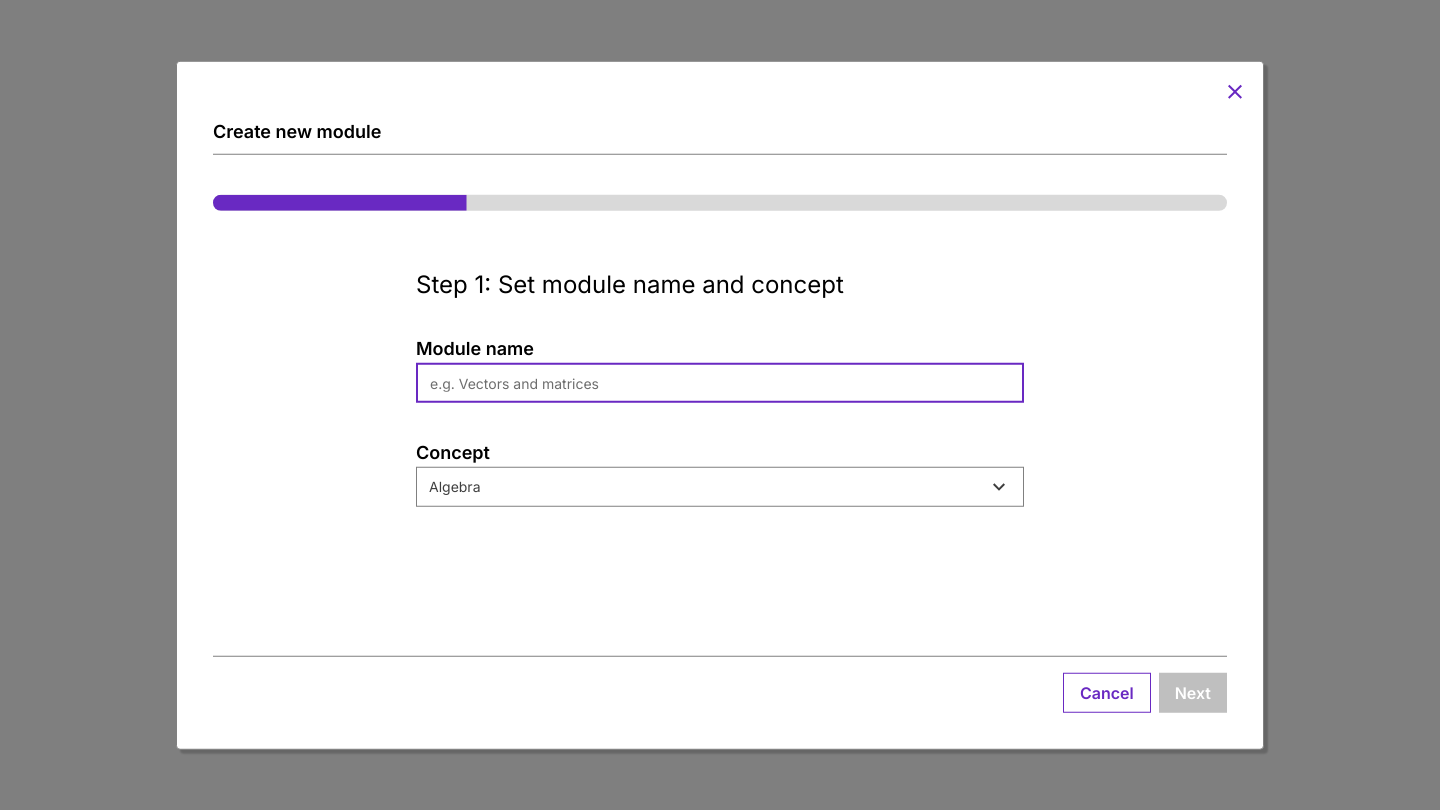
CourseWizard › blocks a duplicate module name within the same concept and clears the error on edit
In the field labelled "Module name": (720, 383) [416,363,1024,403], type "Vectors"
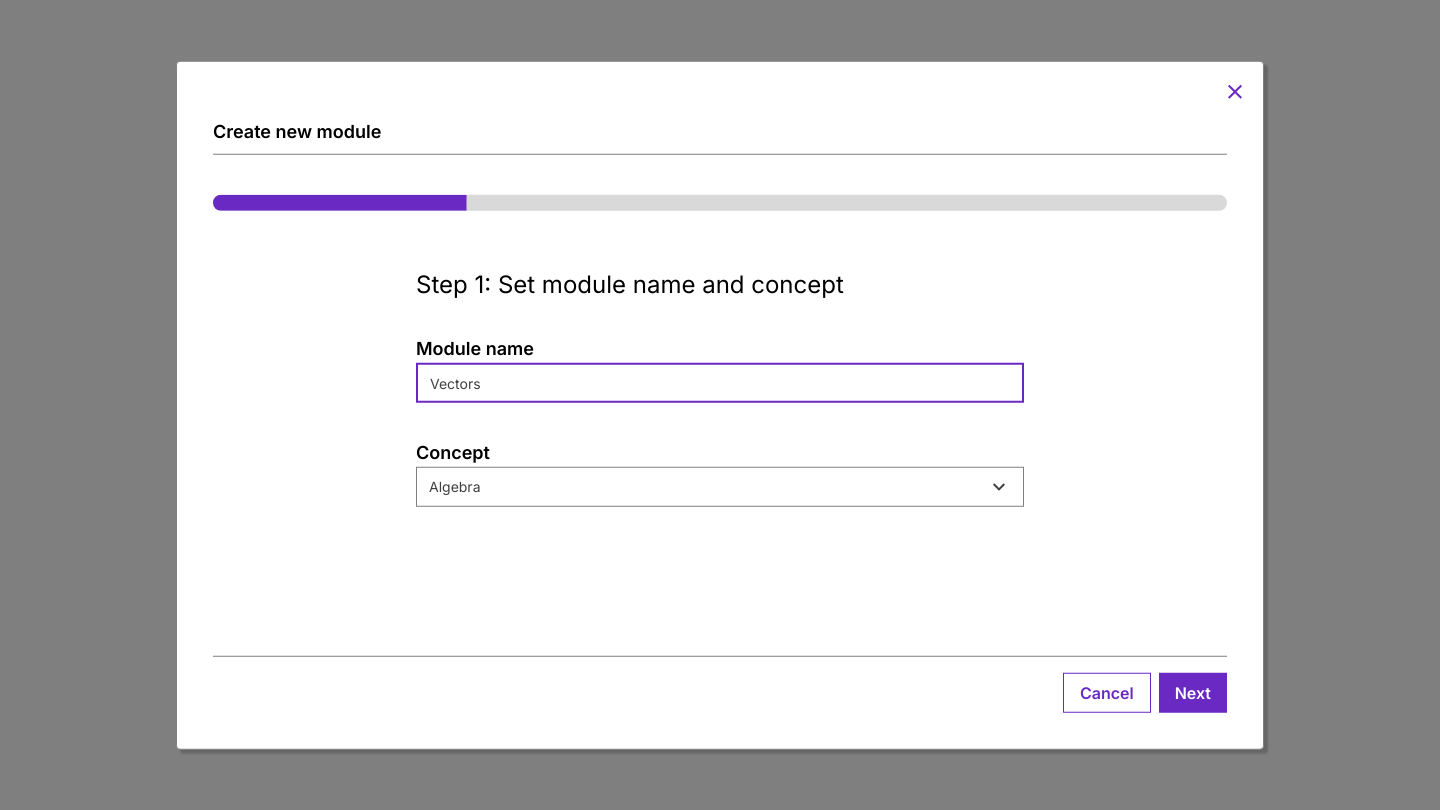
Click the button "Next": click(1193, 692) [1159,672,1227,712]
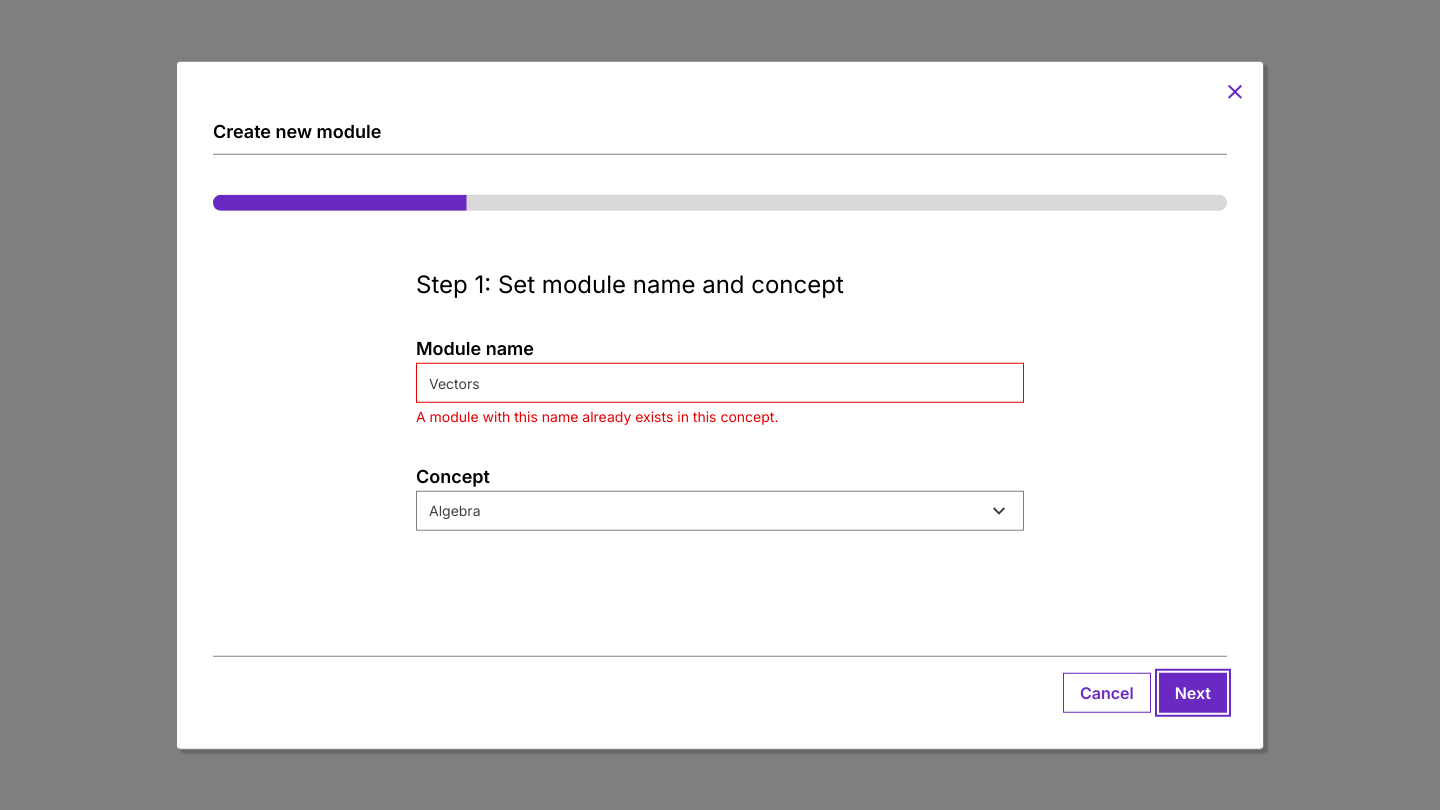
Expected: the text "A module with this name already exists in this concept." is shown, [416,408,778,425]
Editing the name clears the error.
In the field labelled "Module name": (720, 383) [416,363,1024,403], type "2"
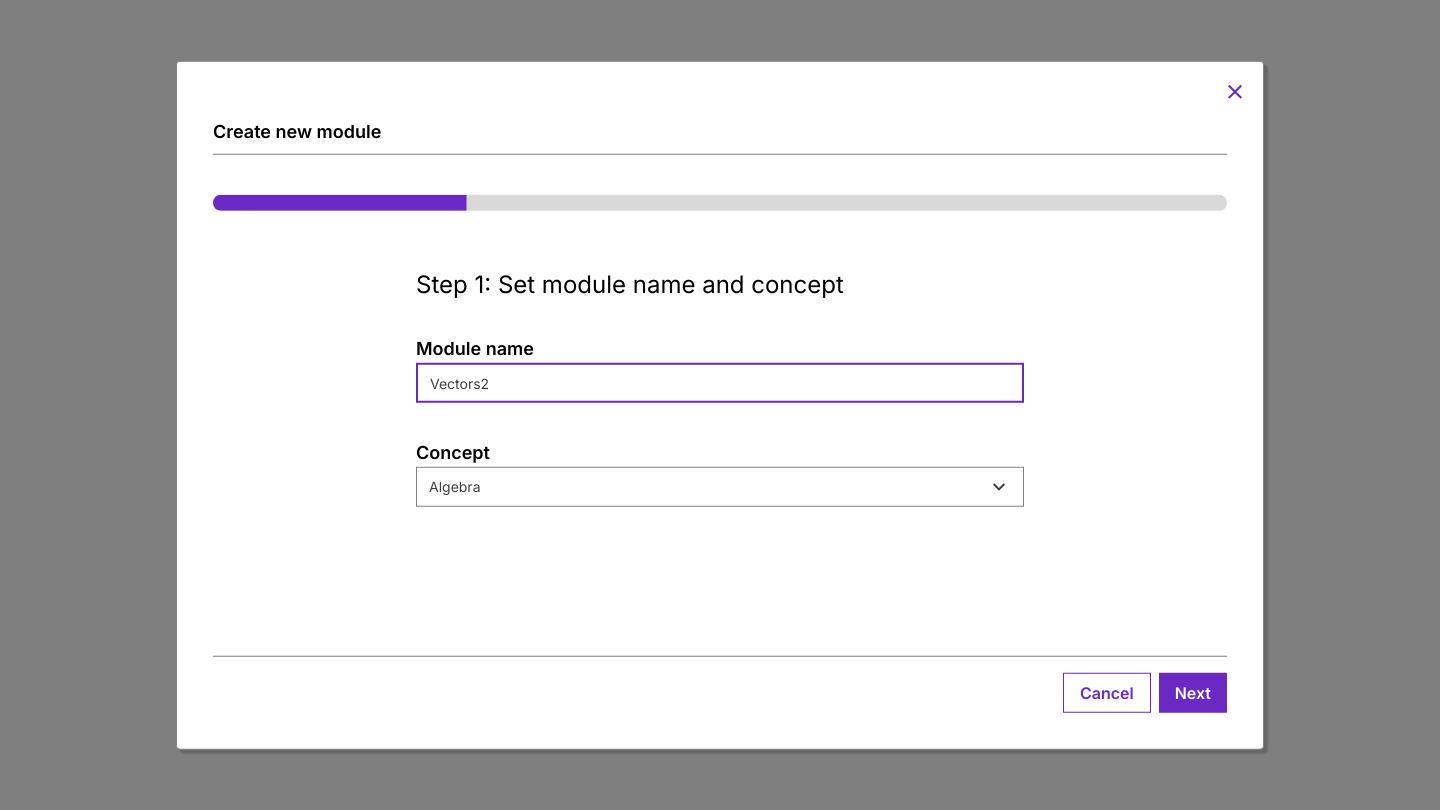
Expected: the text "A module with this name already exists in this concept." is gone
